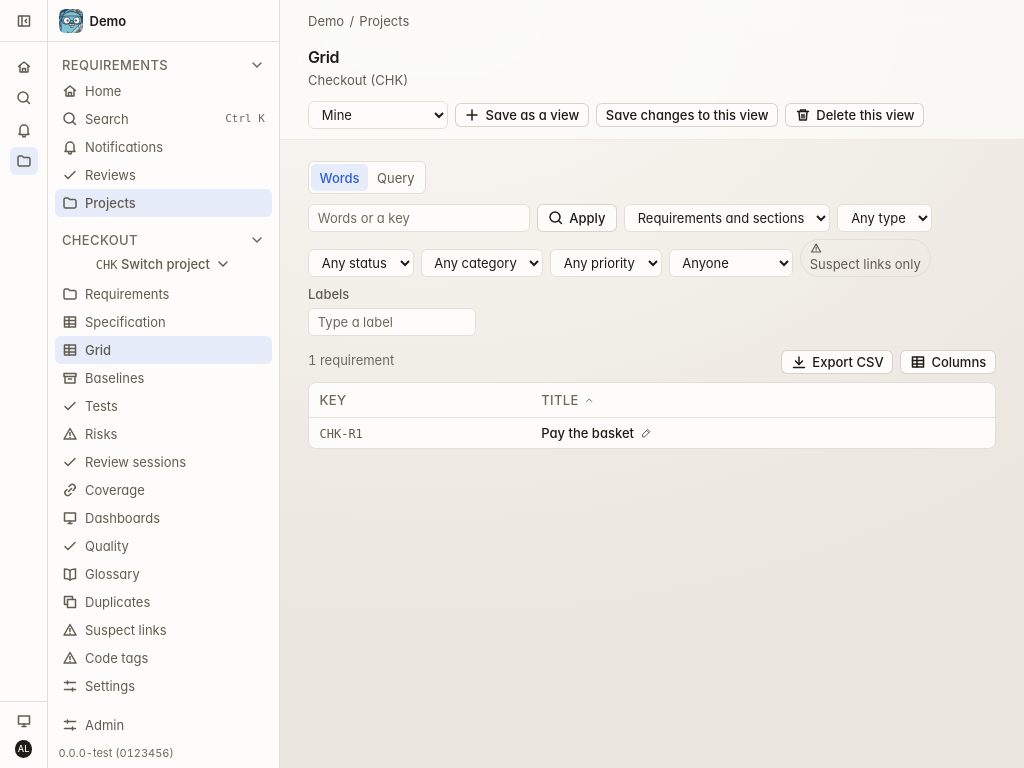
Test: a saved view › deletes the open view and goes back to all requirements
Expected: the table is shown, [309,383,995,448]
Click the button "Delete this view": {"x": 855, "y": 115} [785,102,924,127]
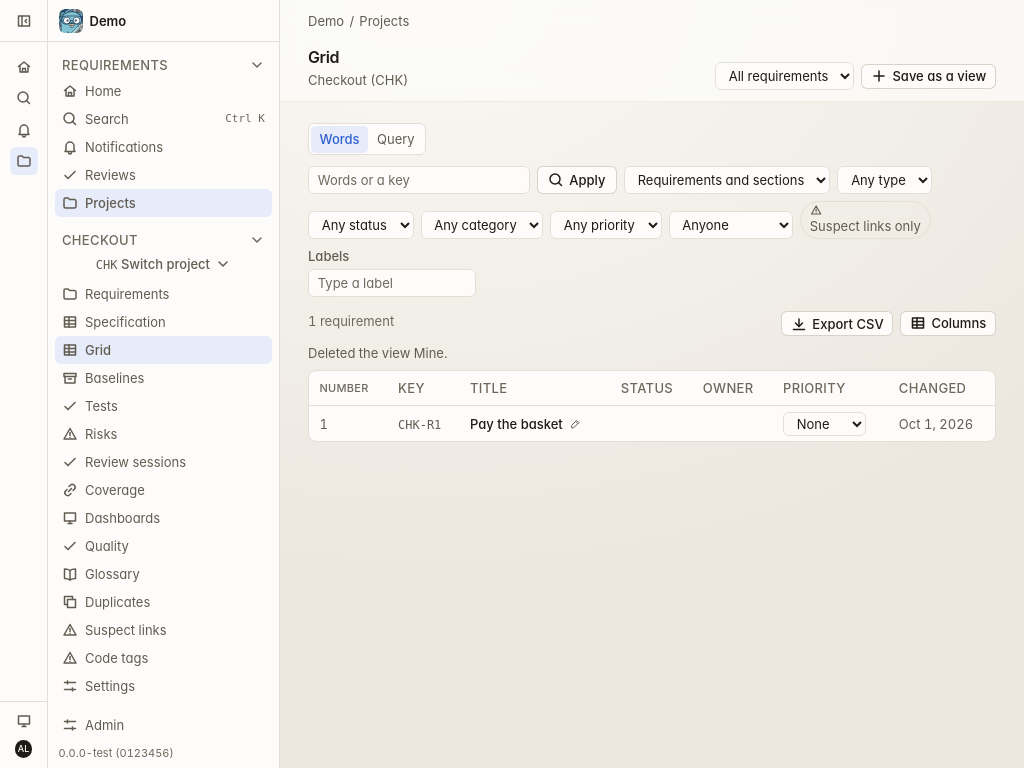
Now the text "Deleted the view Mine." is shown, box [308,345,447,361]
Now the dropdown named "Views" shows "All requirements", box [715,62,854,90]
